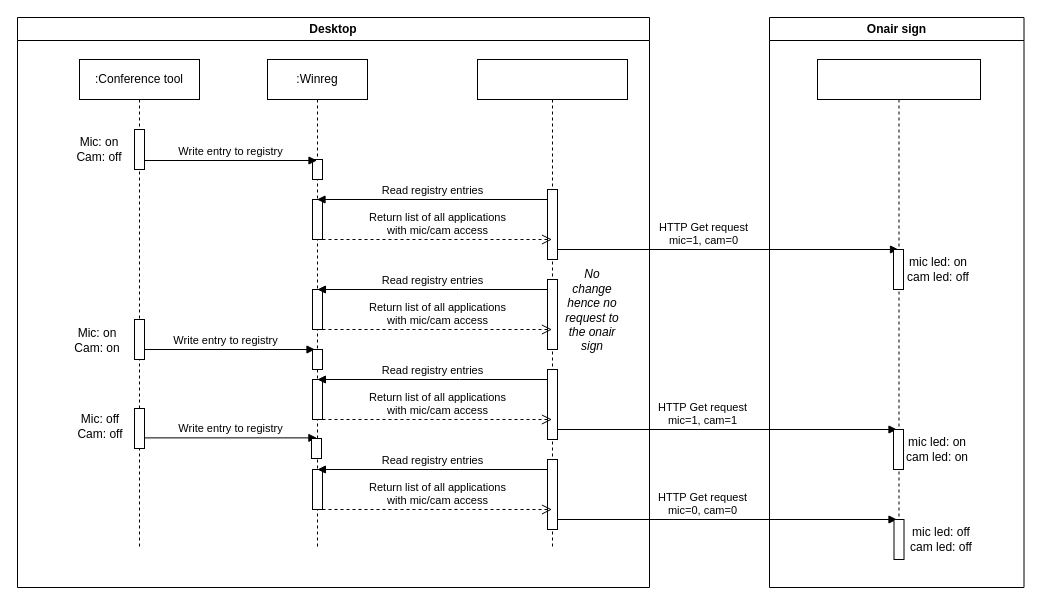
Image size: 1042x605. Some labels were removed from this diagram. The shapes that lost their labels are listed below. From the top down, each one's box as (x1, y1, x2, y2) in pixels, then its label:
(476, 58, 628, 548): :onair_sign_publisher
(816, 58, 980, 548): :onair_sign_firmware
